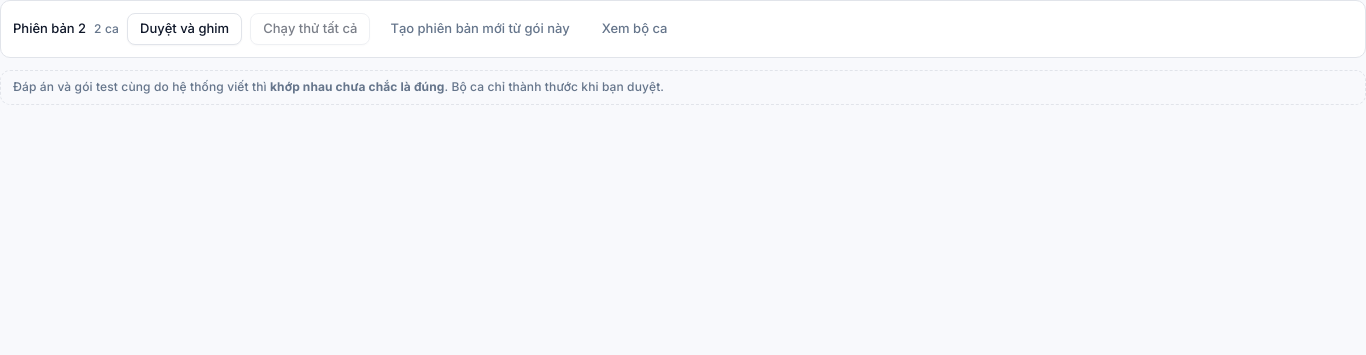
Test: TestBundleList — chạy thử (G2b-R) › đang sinh gói: mọi nút chạy thử (cả gói lẫn từng ca) khoá
Click the button "Xem bộ ca": click(635, 29) x1=590 y1=13 x2=680 y2=45
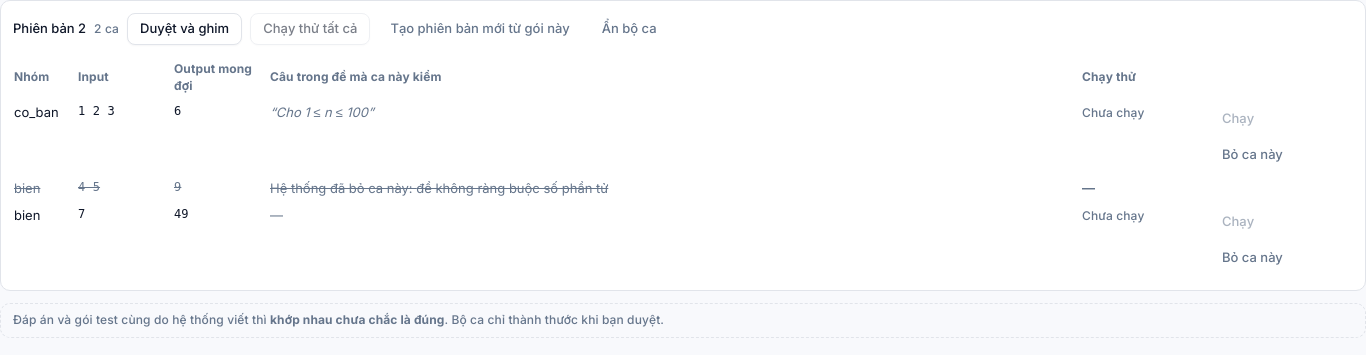
Check: the button "Chạy thử tất cả" is disabled, box x1=250 y1=13 x2=370 y2=45
Check: the button with aria-label "Chạy thử ca ca1" is disabled, box x1=1210 y1=103 x2=1266 y2=135
Check: the button with aria-label "Chạy thử ca ca3" is disabled, box x1=1210 y1=206 x2=1266 y2=238
